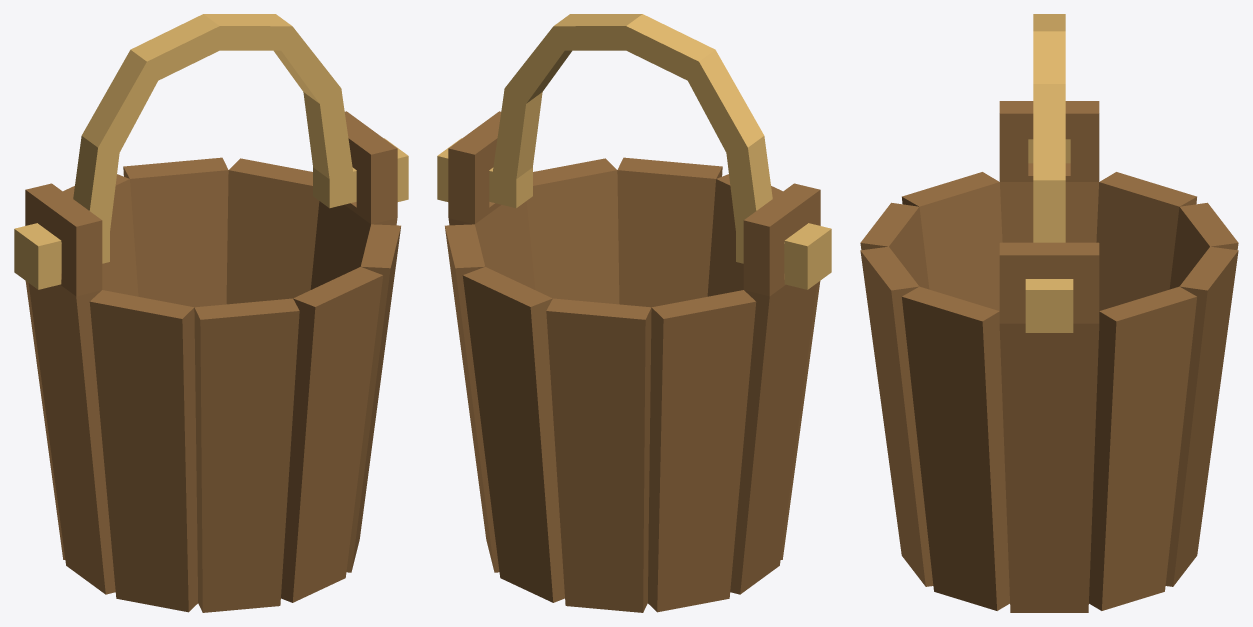
Rendered from WoodenBucket.fbx.
3 views of the same model, side by side, from view 1: azimuth 30°, elevation 25°; view 2: azimuth 150°, elevation 25°; view 3: azimuth 270°, elevation 25° (orthographic).
Parts seen in each view (by area): view 1: WoodenBucket, Handle; view 2: WoodenBucket, Handle; view 3: WoodenBucket, Handle.
Boxes of the visible parts, x1=… form: WoodenBucket: x1=25, y1=111, x2=400, y2=612; Handle: x1=14, y1=14, x2=408, y2=289; WoodenBucket: x1=445, y1=111, x2=820, y2=612; Handle: x1=437, y1=14, x2=831, y2=289; WoodenBucket: x1=860, y1=101, x2=1238, y2=612; Handle: x1=1025, y1=14, x2=1073, y2=332.
Bounding box in the file's own units: 114 × 156 × 103.
